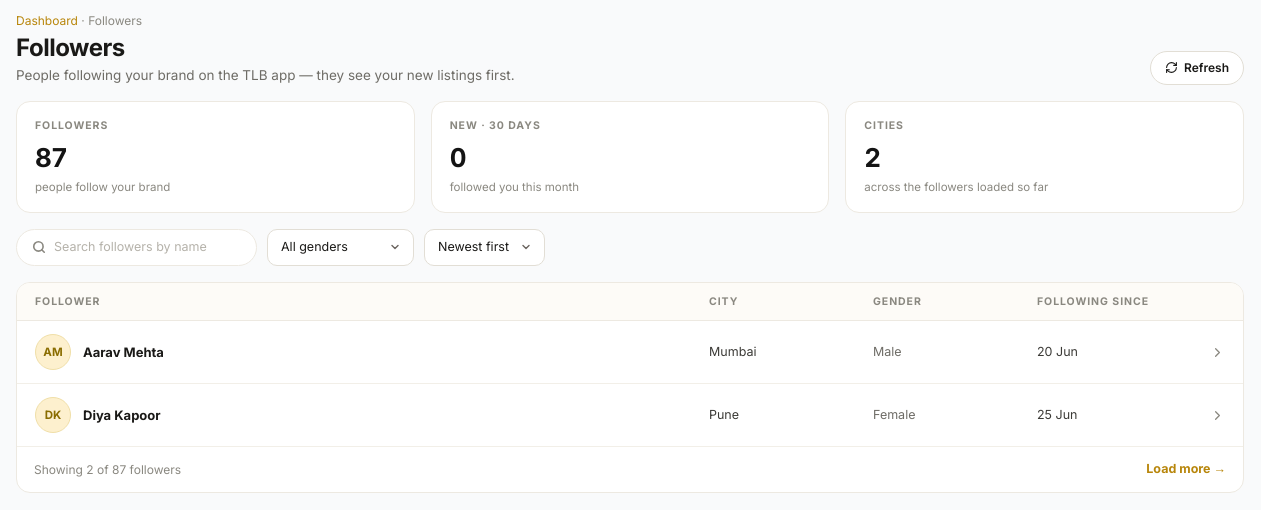
Test: Followers — list and filters › searches server-side after the debounce
expect the text "Aarav Mehta" is shown: met, box [83,343,164,362]
Type "Diya" into the field with placeholder "Search followers by name" at (148,247), box [54,238,241,257]
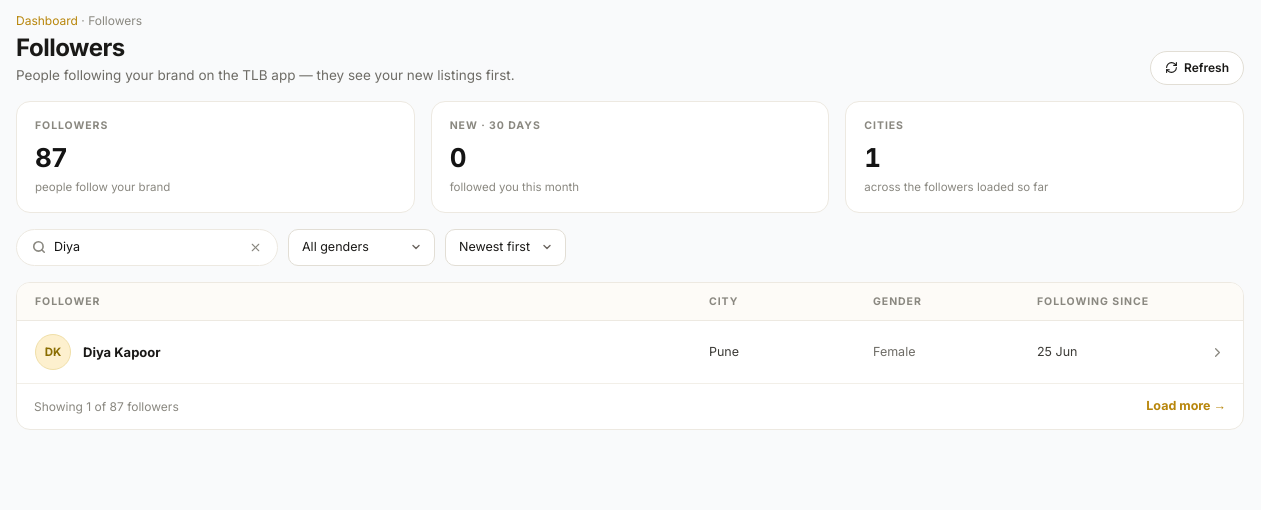
expect the text "Diya Kapoor" is shown: met, box [83,343,161,362]
expect the button "Aarav Mehta" is gone: met
